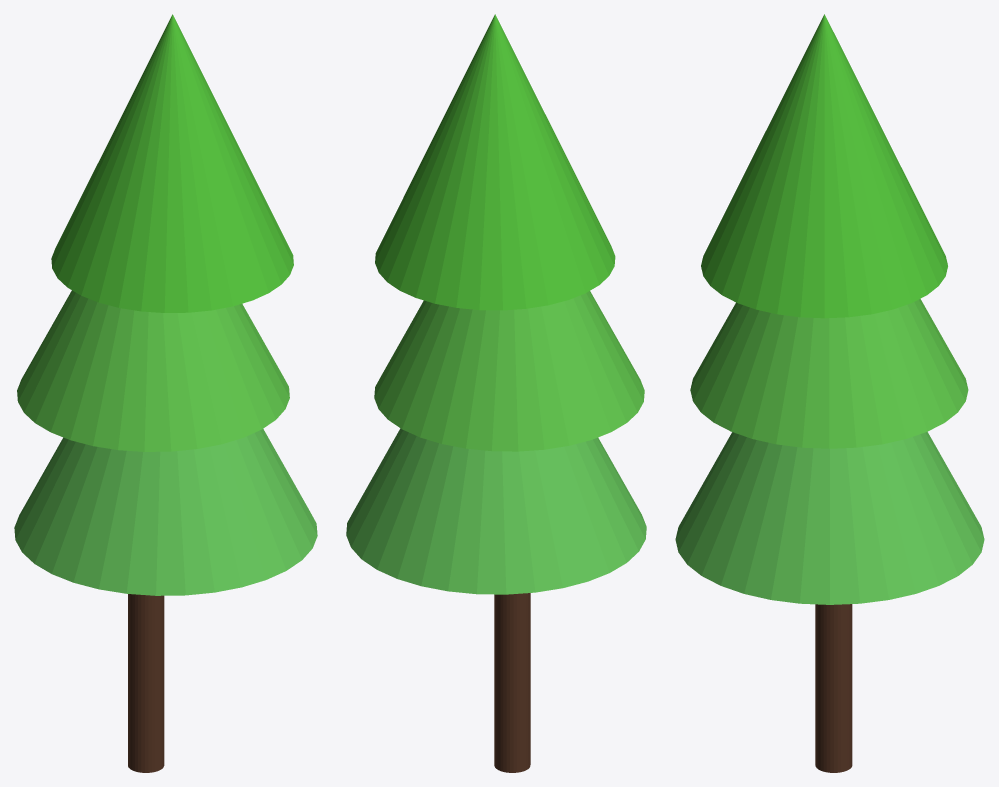
The model's file is Tree3.glb.
3 views of the same model, side by side, from view 1: azimuth 30°, elevation 25°; view 2: azimuth 150°, elevation 25°; view 3: azimuth 270°, elevation 25° (orthographic). The views are drawn at different scales.
Visible parts, largest first — view 1: Cone.002, Cone, Cone.001, Cylinder; view 2: Cone.002, Cone, Cone.001, Cylinder; view 3: Cone.002, Cone, Cone.001, Cylinder.
Boxes of the visible parts, box(x1,y1,x2,y2) form: Cone.002: box(51, 14, 293, 312); Cone: box(14, 429, 317, 595); Cone.001: box(17, 290, 289, 451); Cylinder: box(128, 594, 164, 772); Cone.002: box(375, 14, 615, 310); Cone: box(346, 428, 646, 594); Cone.001: box(374, 291, 644, 451); Cylinder: box(494, 593, 530, 772); Cone.002: box(701, 14, 947, 318); Cone: box(675, 431, 984, 604); Cone.001: box(690, 298, 968, 448); Cylinder: box(815, 604, 852, 772).
Bounding box in the file's own units: 10 × 27.21 × 10.
Materials: 4 (4 with a texture image).
